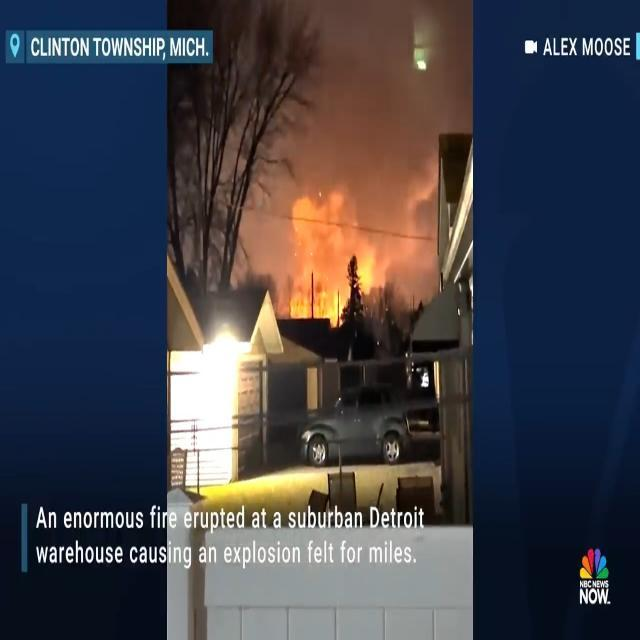fire: (294, 292, 344, 318), (356, 243, 378, 290)
